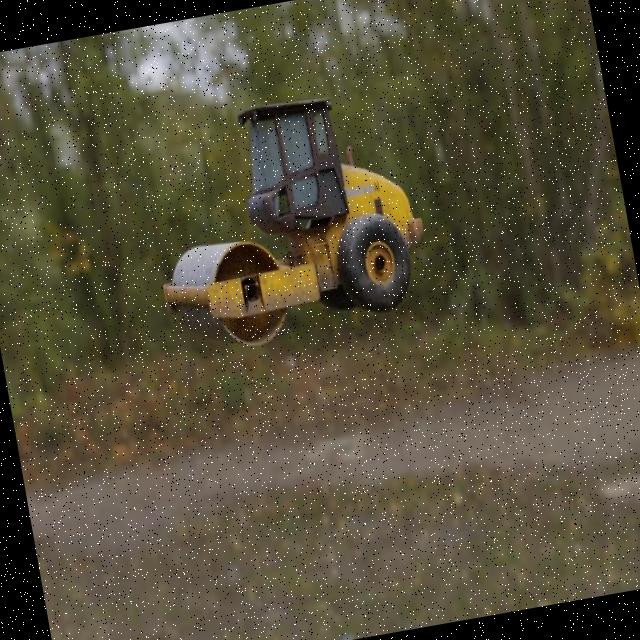Roller: (134, 80, 438, 360)
